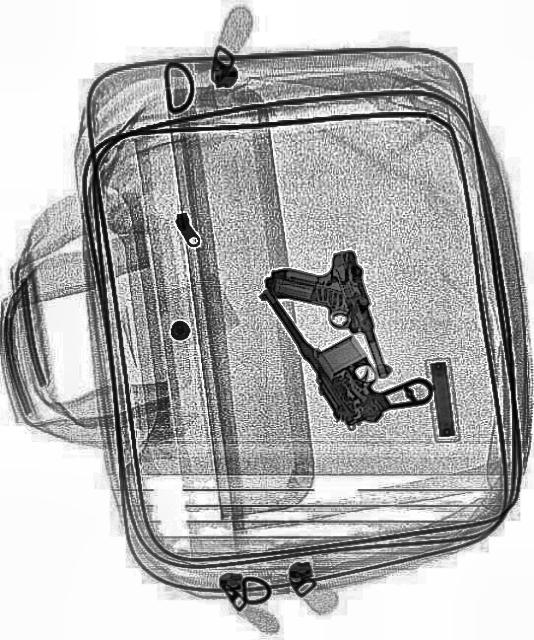Gun: (256, 235, 438, 455), (258, 236, 395, 409)
